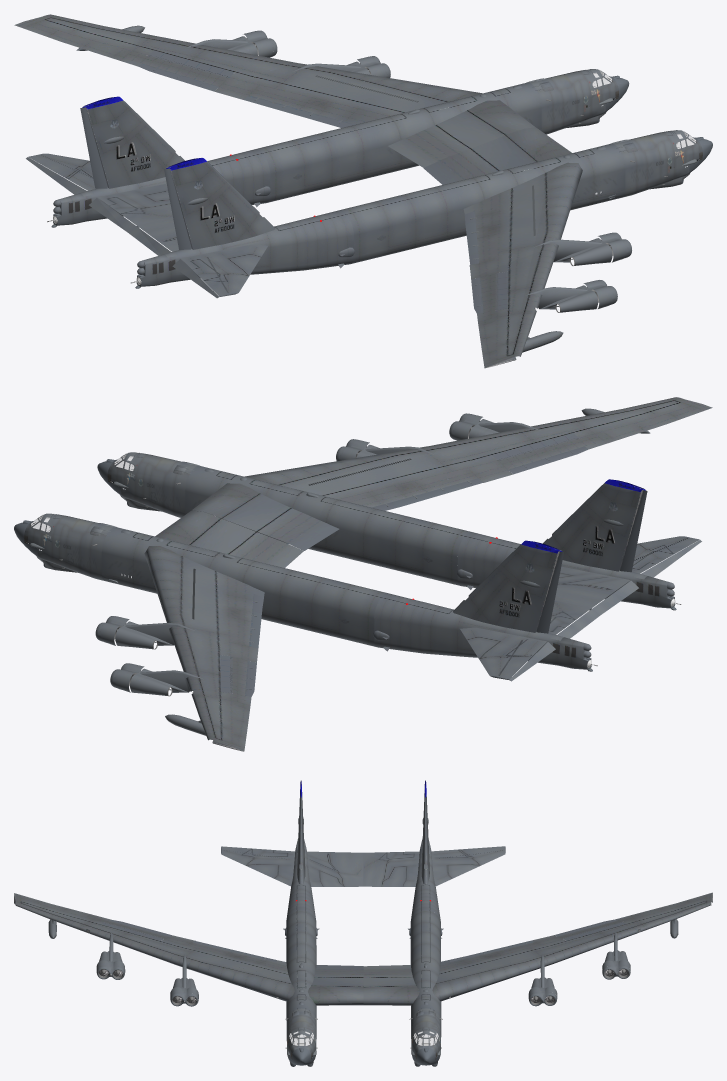
3 renders of one model, top to bottom at view 1: azimuth 30°, elevation 25°; view 2: azimuth 150°, elevation 25°; view 3: azimuth 270°, elevation 25°, orthographic. The views are drawn at different scales.
Visible parts, largest first — view 1: Object_6; view 2: Object_6; view 3: Object_6.
Boxes of the visible parts, bbox=[...] form: Object_6: bbox=[14, 14, 712, 368]; Object_6: bbox=[14, 397, 712, 751]; Object_6: bbox=[14, 780, 712, 1066].
Size of the model in its own units: 48.8 by 11.14 by 68.11.
Materials: 27 (22 with a texture image).
